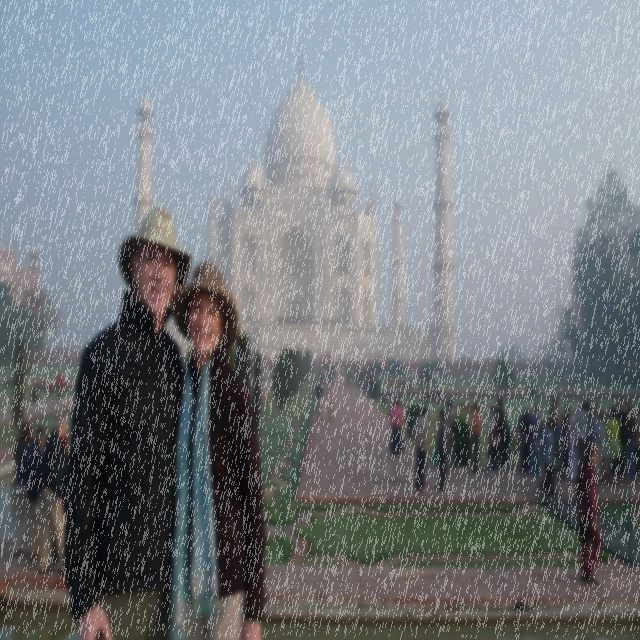pessoa: (61, 200, 200, 640), (166, 260, 268, 639), (38, 413, 68, 573), (18, 426, 48, 564), (577, 444, 603, 586), (10, 422, 34, 556), (574, 400, 590, 500), (387, 396, 405, 484), (412, 406, 430, 494), (538, 416, 556, 503), (623, 394, 639, 483), (605, 406, 622, 486), (544, 409, 559, 496), (518, 402, 534, 475), (550, 408, 566, 480), (590, 404, 604, 486), (528, 402, 543, 478), (496, 406, 512, 470), (436, 408, 448, 492), (40, 343, 80, 368), (566, 404, 579, 480), (486, 404, 499, 476), (471, 400, 483, 474), (561, 404, 573, 476), (269, 316, 339, 328), (445, 398, 456, 472), (616, 400, 626, 478), (497, 397, 507, 473), (598, 409, 608, 482), (60, 434, 69, 514), (632, 404, 640, 476), (605, 409, 613, 478), (32, 507, 44, 545), (484, 447, 502, 470), (54, 368, 64, 404), (549, 396, 564, 420), (316, 378, 324, 422), (585, 402, 592, 444), (328, 381, 334, 422), (584, 393, 592, 413), (592, 398, 600, 418), (558, 368, 564, 391), (362, 368, 368, 389), (494, 368, 499, 392), (258, 351, 267, 364), (431, 368, 436, 390), (322, 366, 327, 386), (563, 370, 568, 390), (345, 368, 350, 388), (570, 369, 574, 392), (498, 370, 502, 392), (434, 369, 438, 391), (350, 367, 354, 389), (324, 351, 332, 362), (369, 370, 374, 387), (328, 366, 332, 387), (565, 370, 569, 390), (422, 370, 426, 390), (418, 370, 422, 390), (254, 316, 262, 326), (367, 370, 371, 388), (427, 370, 430, 391), (425, 369, 428, 390), (436, 370, 439, 390), (321, 367, 324, 386), (332, 362, 336, 376), (334, 363, 338, 376), (360, 375, 364, 388), (330, 364, 333, 381), (546, 355, 552, 363), (338, 362, 341, 376), (342, 362, 345, 376), (312, 352, 316, 362), (422, 353, 426, 363), (496, 354, 504, 359), (562, 355, 566, 365), (615, 408, 619, 418), (321, 362, 324, 374), (338, 363, 341, 375), (361, 361, 364, 372), (542, 355, 546, 363), (556, 356, 560, 364), (576, 402, 580, 410), (321, 350, 324, 360), (464, 353, 467, 363), (321, 366, 327, 371), (445, 353, 448, 362), (324, 362, 326, 374), (326, 362, 328, 374), (462, 356, 465, 364), (468, 355, 471, 363), (529, 356, 532, 364), (532, 356, 535, 364), (355, 320, 358, 328), (361, 320, 364, 328), (332, 362, 334, 374), (501, 382, 504, 390), (365, 368, 368, 376), (366, 352, 368, 363), (397, 322, 400, 329), (406, 322, 409, 329), (356, 361, 359, 368), (301, 352, 303, 362), (381, 321, 384, 327), (378, 352, 380, 361), (387, 352, 389, 361), (488, 356, 491, 362), (431, 322, 434, 328), (339, 352, 341, 360), (402, 322, 404, 330), (420, 320, 422, 328), (374, 353, 376, 361), (386, 353, 388, 361), (422, 354, 424, 362), (460, 355, 462, 363), (494, 354, 496, 362), (286, 351, 288, 359), (279, 350, 281, 358), (400, 323, 402, 330), (428, 321, 430, 328), (323, 354, 325, 360), (384, 321, 386, 327), (426, 322, 428, 328), (386, 322, 388, 327), (346, 356, 348, 360), (376, 324, 378, 327), (507, 359, 509, 362), (404, 324, 405, 328), (422, 326, 423, 328)
